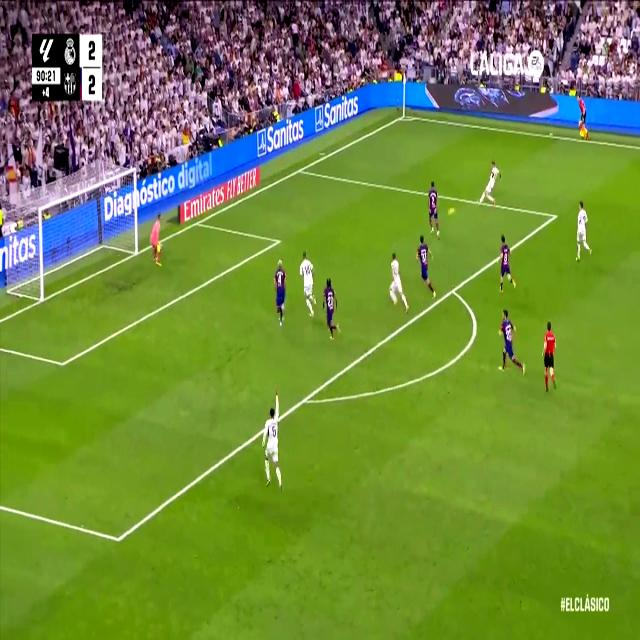bigarea_bottom_inner: (112, 522, 125, 555)
bigarea_top_inner: (550, 204, 560, 227)
bigarea_top_outter: (295, 162, 305, 178)
bottom_arc_area_intersection: (298, 386, 312, 413)
corner: (398, 108, 410, 123)
smallarea_bottom_inner: (56, 350, 68, 377)
smallarea_top_inner: (273, 230, 283, 251)
top_arc_area_intersection: (447, 278, 459, 302)
